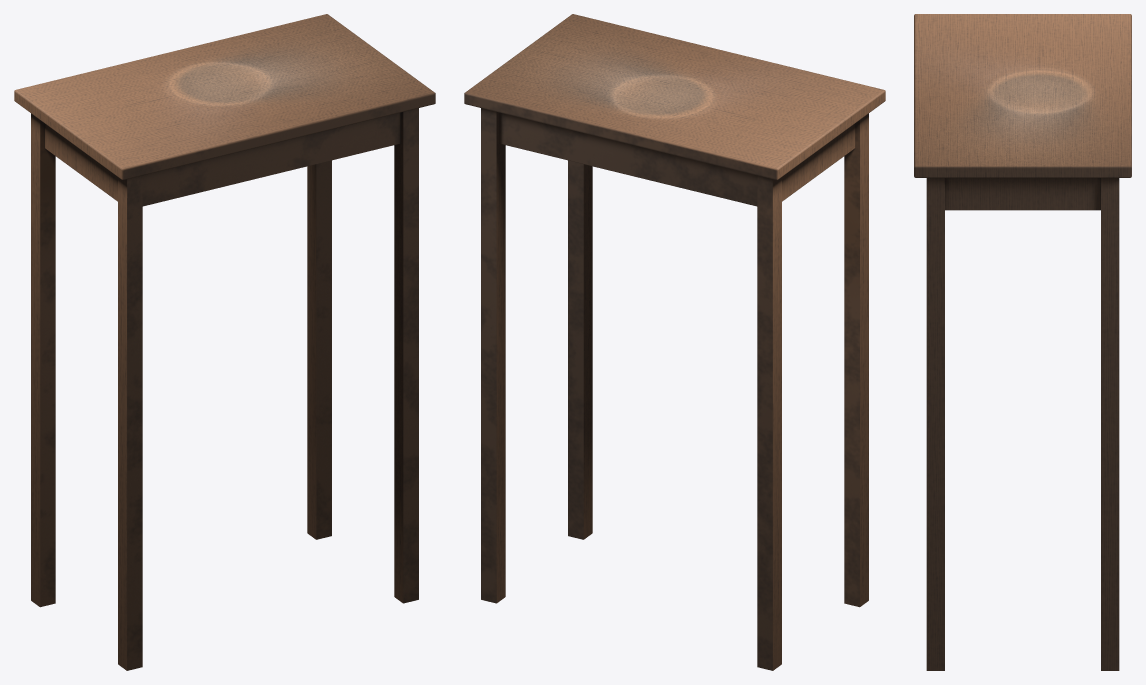
File: 805_water.glb
3 renders of one model, left to right at view 1: azimuth 30°, elevation 25°; view 2: azimuth 150°, elevation 25°; view 3: azimuth 270°, elevation 25°, orthographic.
Visible parts, largest first — view 1: Table; view 2: Table; view 3: Table.
Boxes of the visible parts, x1,y1,x2,y2 form: Table: [14, 14, 435, 670]; Table: [464, 14, 885, 670]; Table: [914, 14, 1131, 670].
Size of what is drawn, in the model's own units: 2 by 3.1 by 1.2.
1 material, 1 textured.
